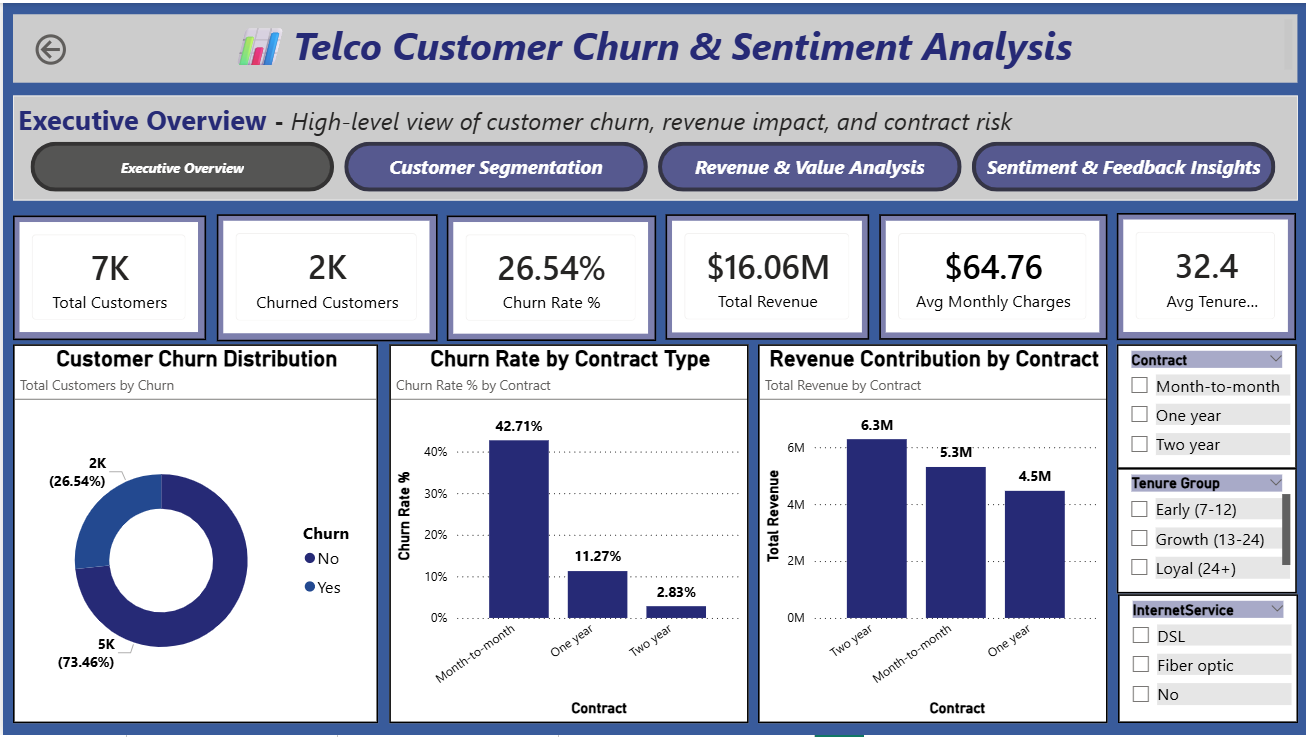

What the dashboard file says about the page in this screenshot:
{"tool":"powerbi","page":{"name":"Executive Overview","canvas":[1280,720],"ordinal":0},"visuals":[{"type":"textbox","title":"Executive Overview -","box":[9.6,90.6,1261.1,102.9],"z":0},{"type":"cardVisual","title":"Total Customers","fields":{"Data":["Telco_Data_Cleaned.Total Customers"]},"box":[9.6,208.6,189.4,122.1],"z":1000},{"type":"cardVisual","fields":{"Data":["Telco_Data_Cleaned.Total Revenue"]},"box":[650.4,207.2,200.3,123.5],"z":2000},{"type":"cardVisual","fields":{"Data":["Telco_Data_Cleaned.Avg Monthly Charges"]},"box":[860.4,207.2,223.7,123.5],"z":3000},{"type":"cardVisual","fields":{"Data":["Telco_Data_Cleaned.Avg Tenure"]},"box":[1093.7,205.8,175.6,124.9],"z":4000},{"type":"cardVisual","fields":{"Data":["Telco_Data_Cleaned.Churned Customers"]},"box":[209.9,207.2,216.8,124.9],"z":5000},{"type":"cardVisual","fields":{"Data":["Telco_Data_Cleaned.Churn Rate %"]},"box":[435,208.6,205.8,123.5],"z":6000},{"type":"donutChart","title":"Customer Churn Distribution","fields":{"Y":["Telco_Data_Cleaned.Total Customers"],"Category":["Telco_Data_Cleaned.Churn"]},"box":[9.6,334.8,358.1,371.9],"z":7000},{"type":"clusteredColumnChart","title":"Churn Rate by Contract Type","fields":{"Category":["Telco_Data_Cleaned.Contract"],"Y":["Telco_Data_Cleaned.Churn Rate %"]},"box":[378.7,334.8,352.7,371.9],"z":8000},{"type":"clusteredColumnChart","title":"Revenue Contribution by Contract","fields":{"Category":["Telco_Data_Cleaned.Contract"],"Y":["Telco_Data_Cleaned.Total Revenue"]},"box":[741,334.8,343.1,371.9],"z":9000},{"type":"slicer","fields":{"Values":["Telco_Data_Cleaned.Contract"]},"box":[1093.7,334.8,177,122.1],"z":10000},{"type":"slicer","fields":{"Values":["Telco_Data_Cleaned.InternetService"]},"box":[1095,580.4,177,126.2],"z":11000},{"type":"slicer","fields":{"Values":["Telco_Data_Cleaned.Tenure Group"]},"box":[1093.7,456.9,177,123.5],"z":12000},{"type":"textbox","box":[9.6,11,1261.1,67.2],"z":13000},{"type":"actionButton","box":[27.4,26.1,100.2,39.8],"z":14000},{"type":"pageNavigator","box":[27.4,135.8,1225.4,49.4],"z":15000}]}

Visuals, with their boxes in screenshot pixels (x1, y1, x2, y2), scaled from the page's 1280x720 canvas onto the 1306x737 screenshot:
"Executive Overview -" textbox: (10, 93, 1297, 198)
"Total Customers" cardVisual: (10, 214, 203, 339)
cardVisual - Telco_Data_Cleaned.Total Revenue: (664, 212, 868, 339)
cardVisual - Telco_Data_Cleaned.Avg Monthly Charges: (878, 212, 1106, 339)
cardVisual - Telco_Data_Cleaned.Avg Tenure: (1116, 211, 1295, 339)
cardVisual - Telco_Data_Cleaned.Churned Customers: (214, 212, 435, 340)
cardVisual - Telco_Data_Cleaned.Churn Rate %: (444, 214, 654, 340)
"Customer Churn Distribution" donutChart: (10, 343, 375, 723)
"Churn Rate by Contract Type" clusteredColumnChart: (386, 343, 746, 723)
"Revenue Contribution by Contract" clusteredColumnChart: (756, 343, 1106, 723)
slicer - Telco_Data_Cleaned.Contract: (1116, 343, 1297, 468)
slicer - Telco_Data_Cleaned.InternetService: (1117, 594, 1298, 723)
slicer - Telco_Data_Cleaned.Tenure Group: (1116, 468, 1297, 594)
textbox: (10, 11, 1297, 80)
actionButton: (28, 27, 130, 67)
pageNavigator: (28, 139, 1278, 190)
